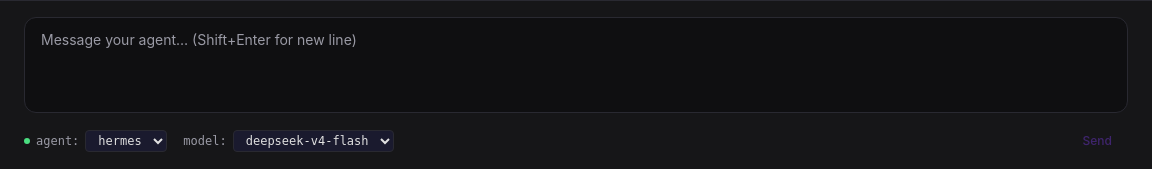
Scenario: Composer slash menu › selects the highlighted command with Enter instead of sending
Type "/wee" into the text box.
click(576, 65); type("/wee")  # box [24,17,1128,113]
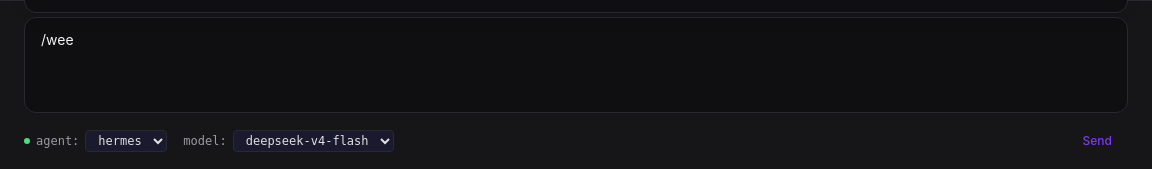
Press Enter
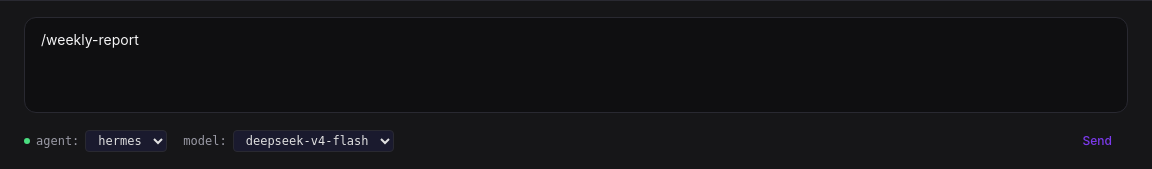
Expected: the text box holds "/weekly-report ", [24,17,1128,113]
